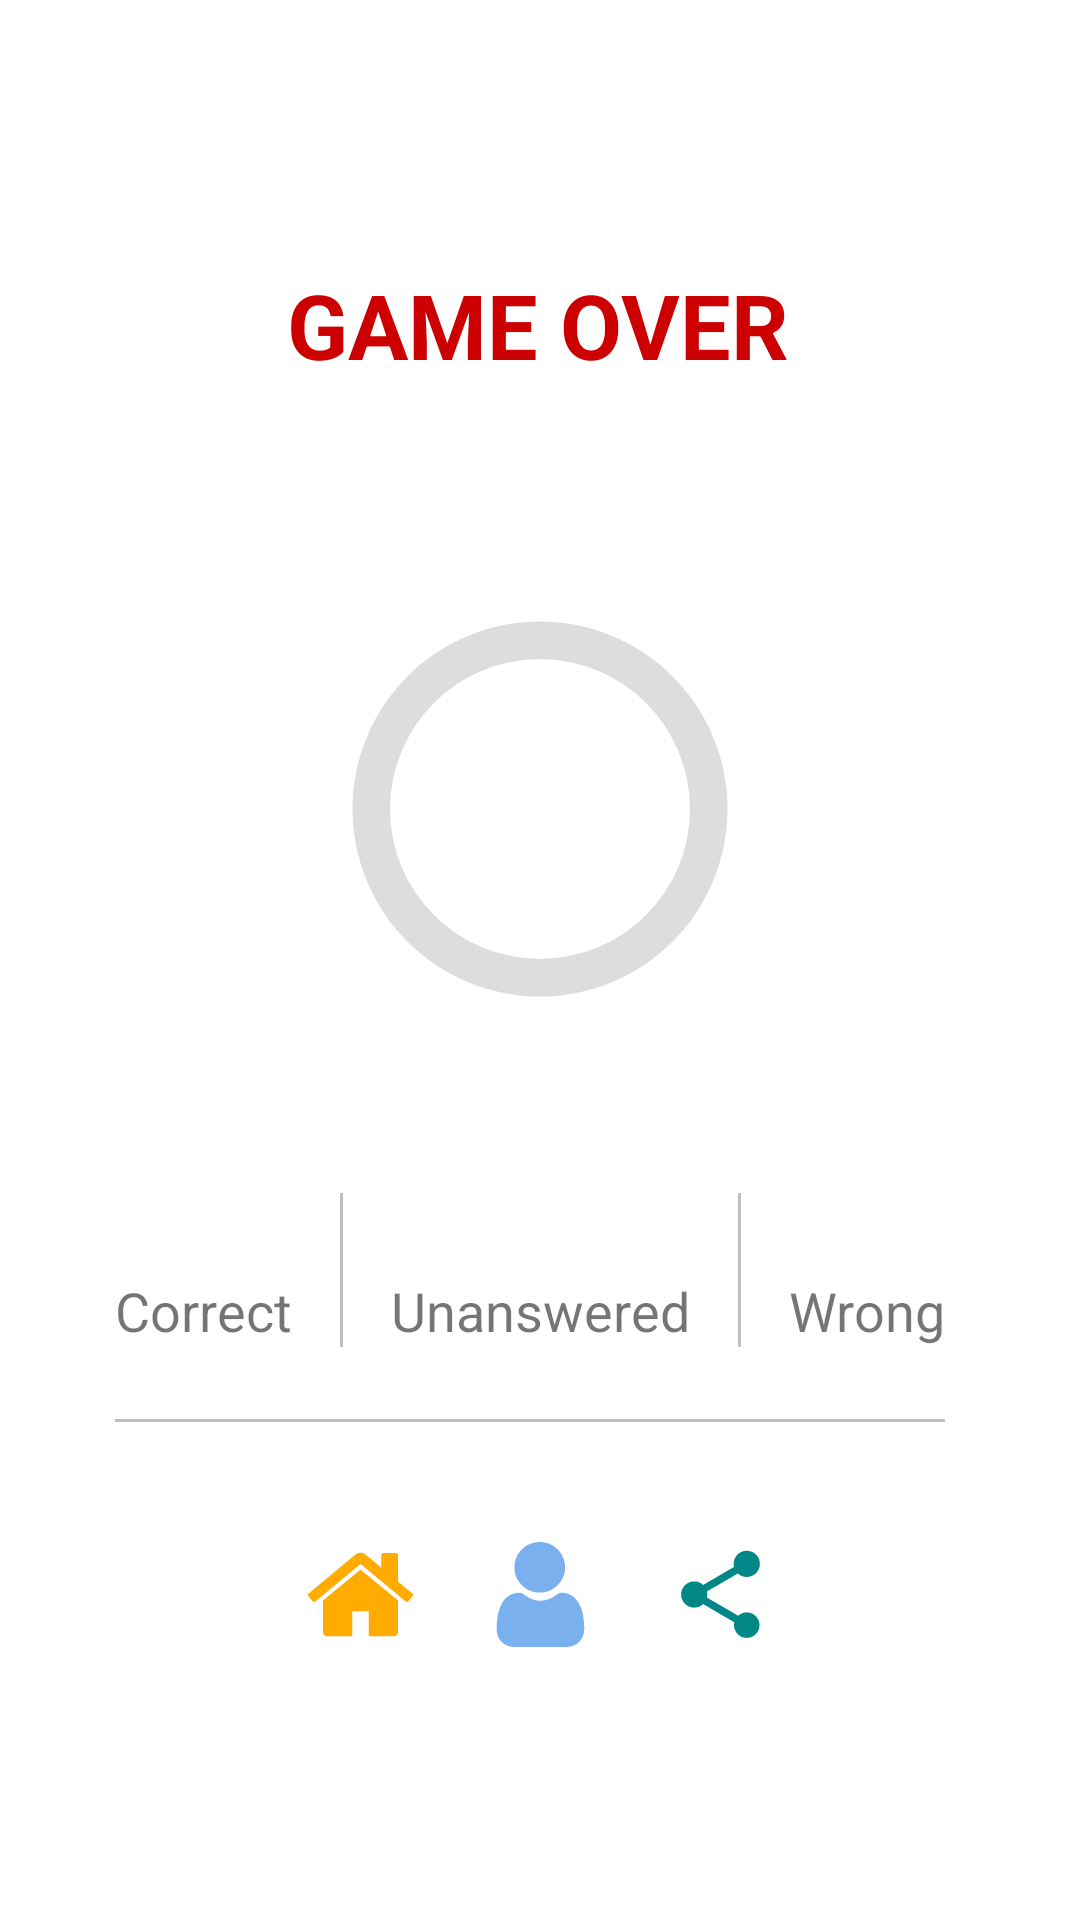

Locate icon controls on the screen. Image size 1080px x 1920px, boxes as (x1, y1, x2, y2).
home: (308, 1552, 413, 1637)
share: (681, 1550, 760, 1638)
user: (496, 1542, 585, 1647)
